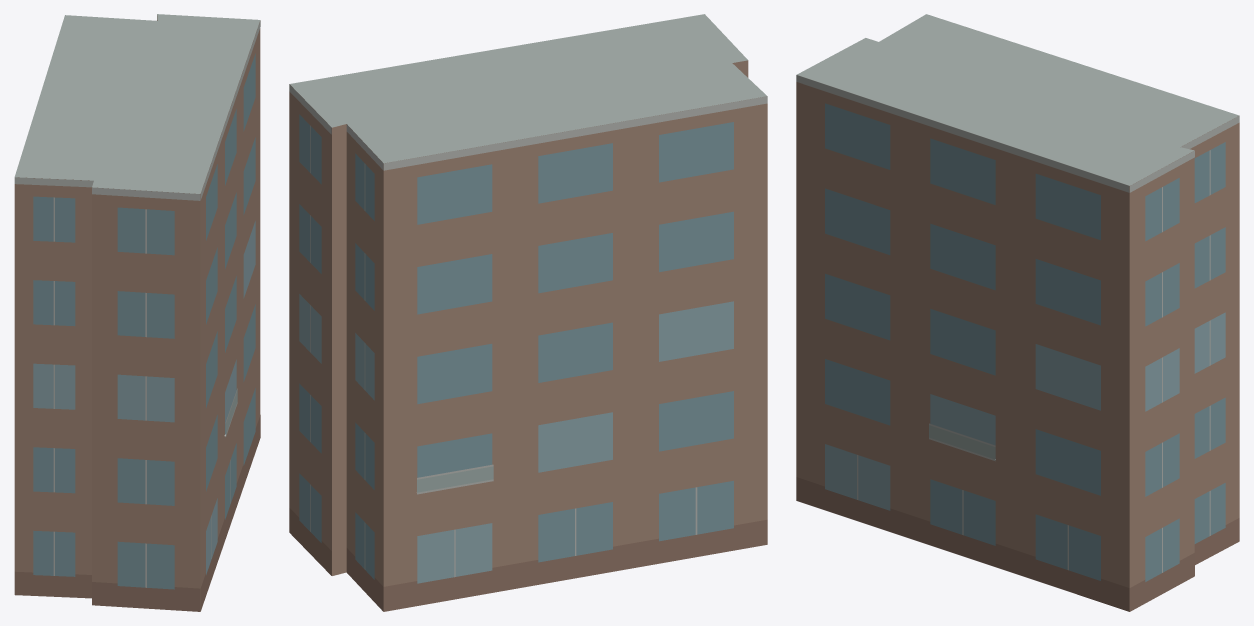
Rendered from survey-upis-32864877.glb.
3 views of the same model, side by side, from view 1: azimuth 30°, elevation 25°; view 2: azimuth 150°, elevation 25°; view 3: azimuth 270°, elevation 25° (orthographic). The views are drawn at different scales.
Parts seen in each view (by area): view 1: survey-upis-32864877.tmp; view 2: survey-upis-32864877.tmp; view 3: survey-upis-32864877.tmp.
Boxes of the visible parts, x1=… form: survey-upis-32864877.tmp: x1=14, y1=14, x2=260, y2=611; survey-upis-32864877.tmp: x1=289, y1=14, x2=767, y2=611; survey-upis-32864877.tmp: x1=796, y1=14, x2=1239, y2=611.
Size of the model in its own units: 12.91 by 14.9 by 14.06.
